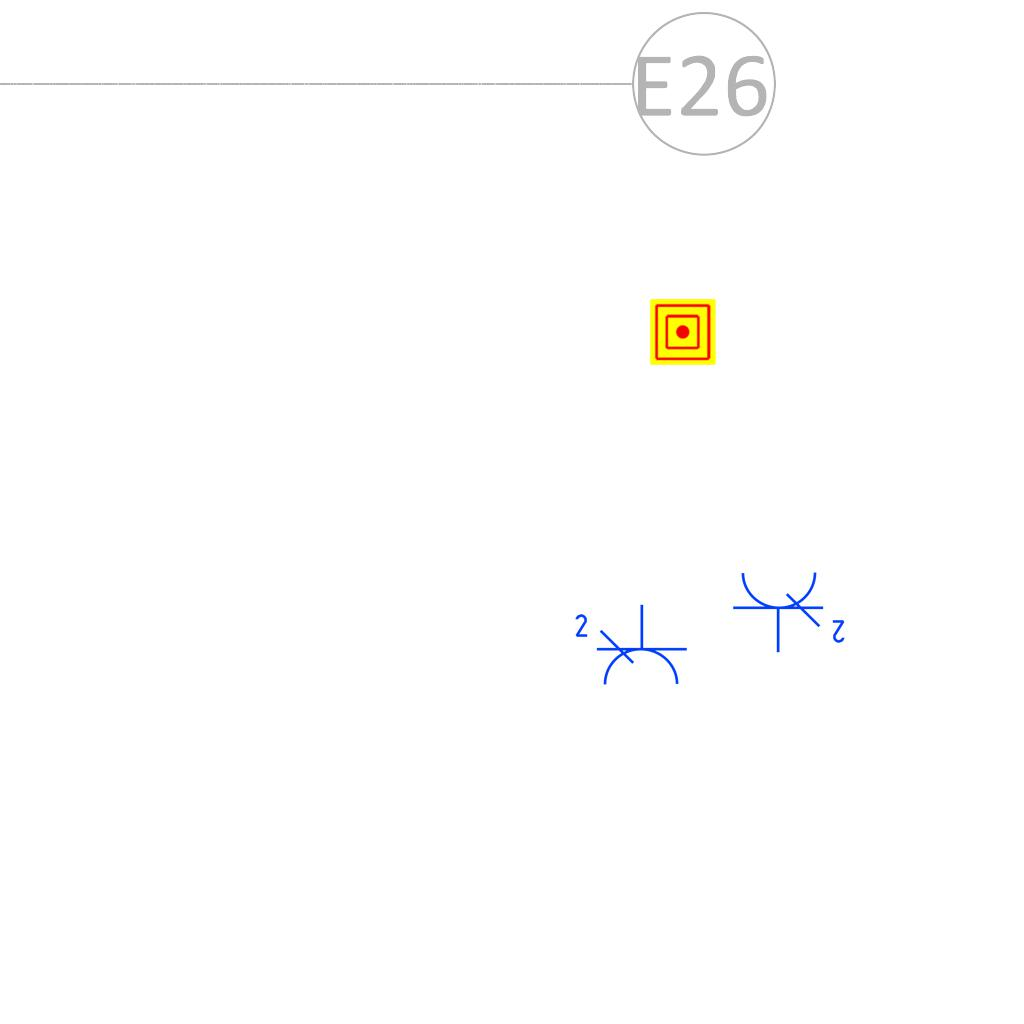NAM-Nichtautomatischer_Melder: (650, 299, 716, 365)
Schukosteckdose_mehrfach: (568, 603, 689, 691), (731, 566, 852, 654)
